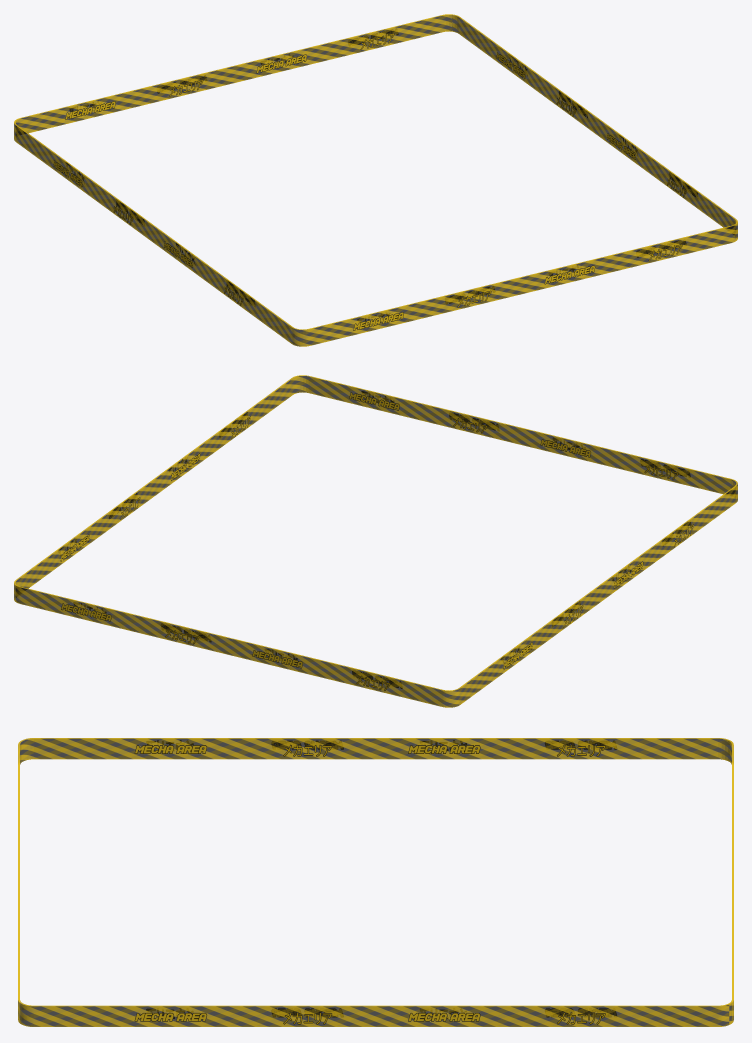
File: Ring.glb
The picture shows the model from 3 angles, top to bottom: view 1: azimuth 30°, elevation 25°; view 2: azimuth 150°, elevation 25°; view 3: azimuth 270°, elevation 25°; orthographic projection. The views are drawn at different scales.
Parts seen in each view (by area): view 1: RingLine, RingDecal1; view 2: RingLine, RingDecal1; view 3: RingLine, RingDecal1.
Boxes of the visible parts, x1,y1,x2,y2 form: RingLine: [14, 14, 737, 346]; RingDecal1: [53, 30, 697, 330]; RingLine: [14, 375, 737, 707]; RingDecal1: [60, 391, 693, 690]; RingLine: [18, 738, 733, 1026]; RingDecal1: [134, 740, 616, 1024].
Size of the model in its own units: 168 by 5.94 by 189.
2 materials, 2 textured.
